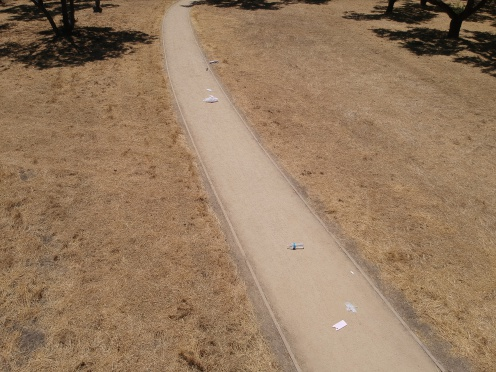bottle: (281, 239, 308, 251)
plastic bag: (201, 94, 220, 103)
